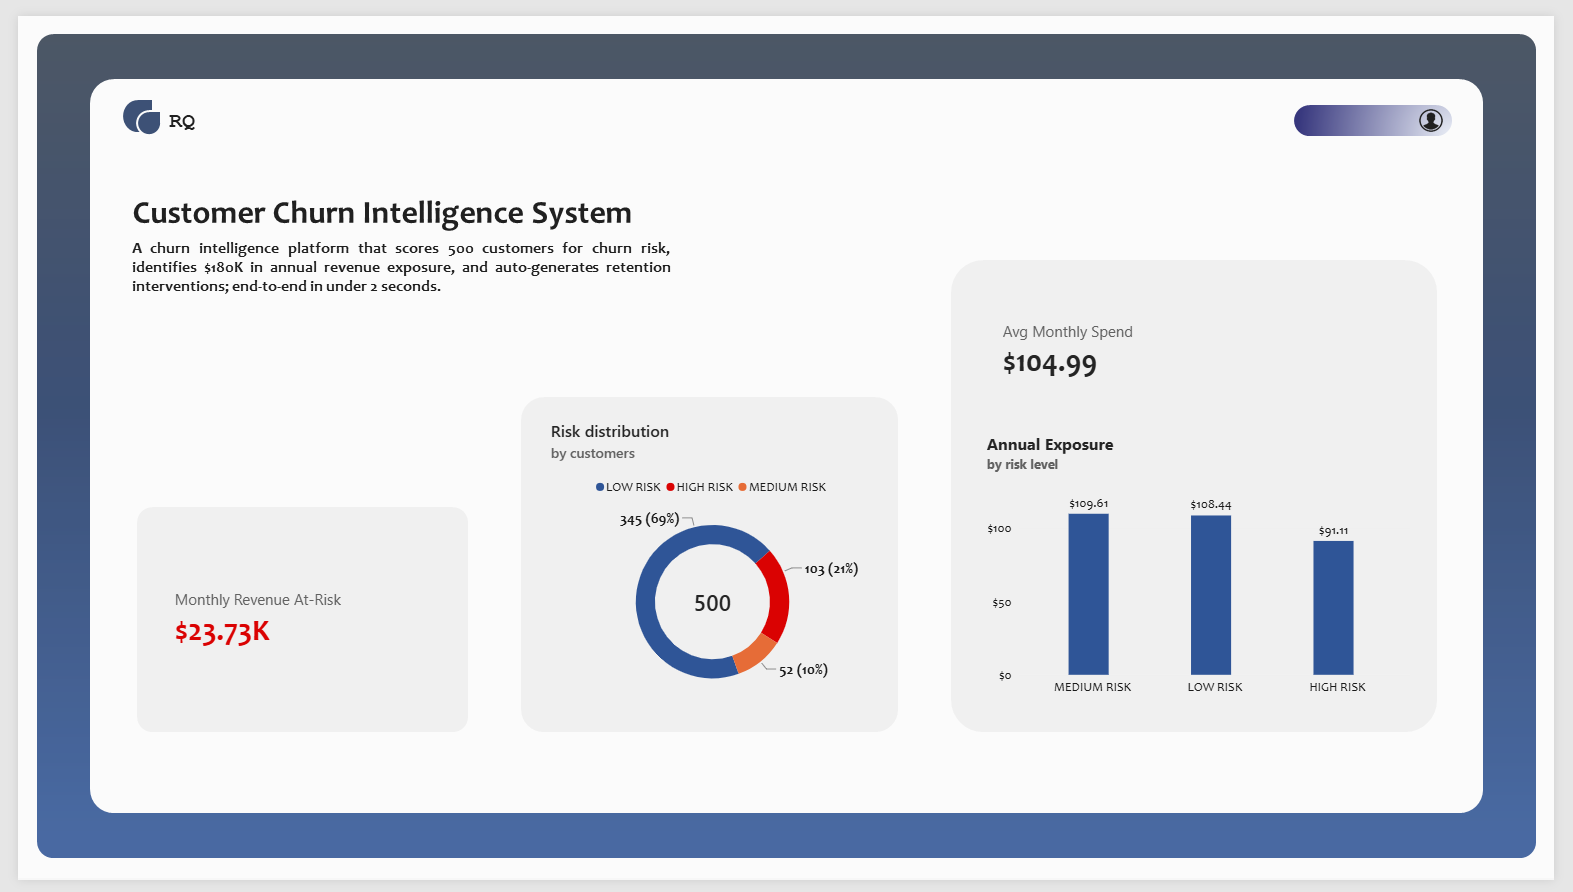

What the dashboard file says about the page in this screenshot:
{"tool":"powerbi","page":{"name":"DB 1","canvas":[1920,1080],"ordinal":0},"visuals":[{"type":"cardVisual","fields":{"Data":["DaX.Estimated Monthly Revenue Loss"]},"box":[160,632.5,391.2,243.8],"z":0},{"type":"donutChart","title":"Risk distribution","fields":{"Category":["feature_store customer_churn_features.risk_level"],"Y":["DaX.Total Customers"]},"box":[650,490,436.2,386.2],"z":1000},{"type":"cardVisual","fields":{"Data":["DaX.Avg Monthly Spend"]},"box":[1195,330,406.2,176.2],"z":2000},{"type":"clusteredColumnChart","title":"Annual Exposure","fields":{"Category":["feature_store customer_churn_features.risk_level"],"Y":["DaX.Avg Monthly Spend"]},"box":[1195,506.2,561.2,361.2],"z":3000}]}

Visuals, with their boxes in screenshot pixels (x1, y1, x2, y2), scaled from the page's 1920x1080 canvas onto the 1573x892 screenshot:
cardVisual - DaX.Estimated Monthly Revenue Loss: {"left": 131, "top": 522, "right": 452, "bottom": 724}
"Risk distribution" donutChart: {"left": 533, "top": 405, "right": 890, "bottom": 724}
cardVisual - DaX.Avg Monthly Spend: {"left": 979, "top": 273, "right": 1312, "bottom": 418}
"Annual Exposure" clusteredColumnChart: {"left": 979, "top": 418, "right": 1439, "bottom": 716}
